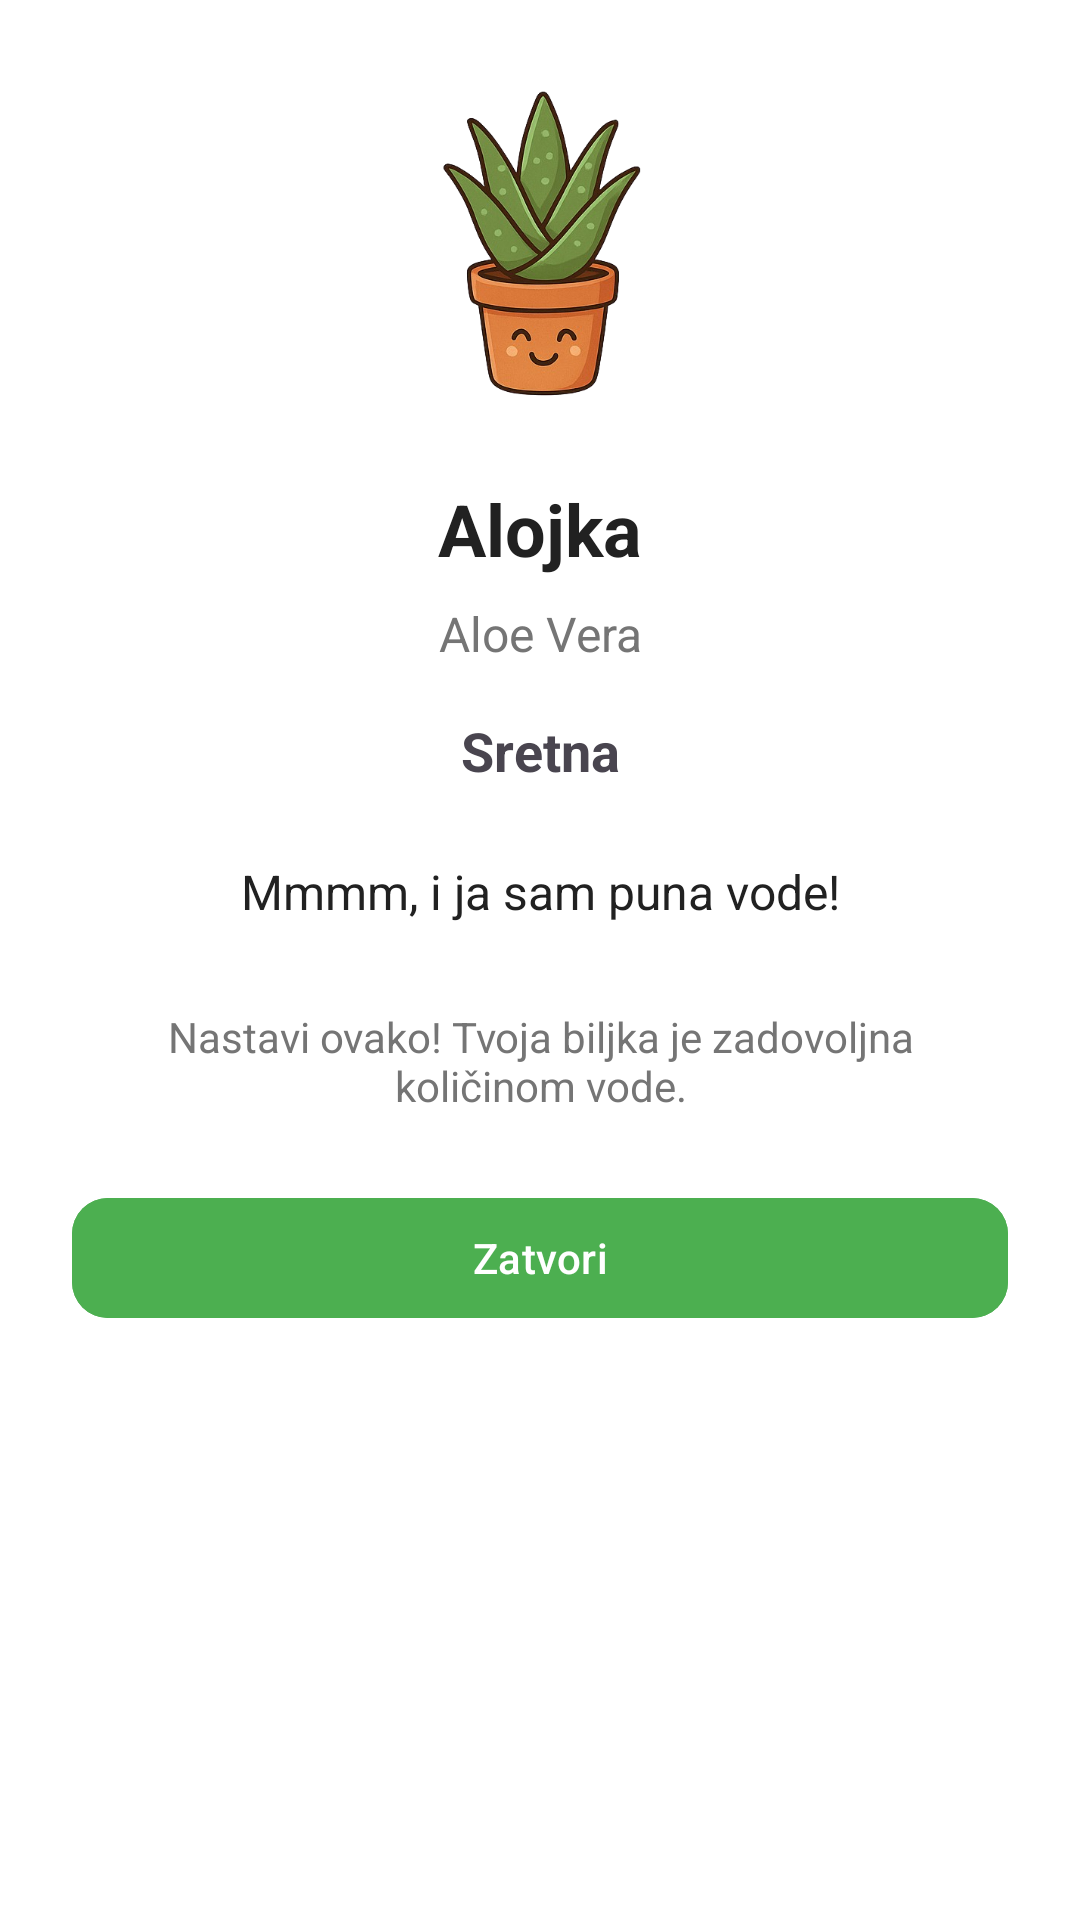

Where icons sit on this 1080px x 1920px app screen, as {"left": x1, "top": y1, "right": x2, "bottom": y2}:
plant happy aloe: {"left": 443, "top": 91, "right": 641, "bottom": 396}
